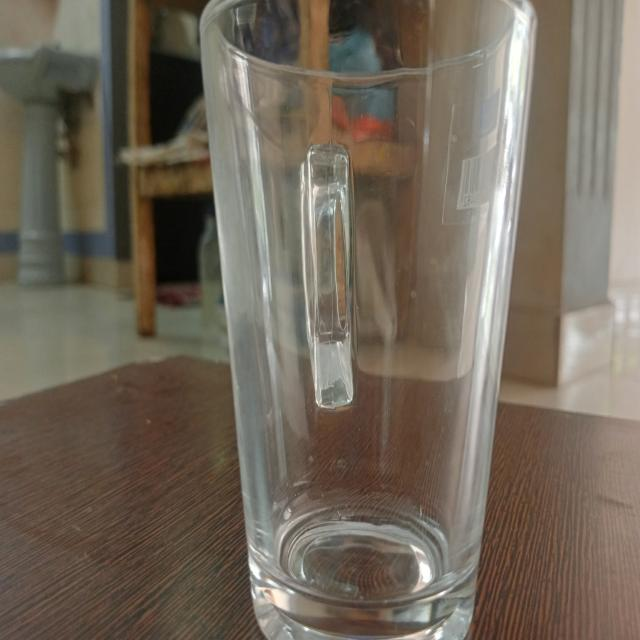glass-VX4N: (198, 0, 536, 640)
